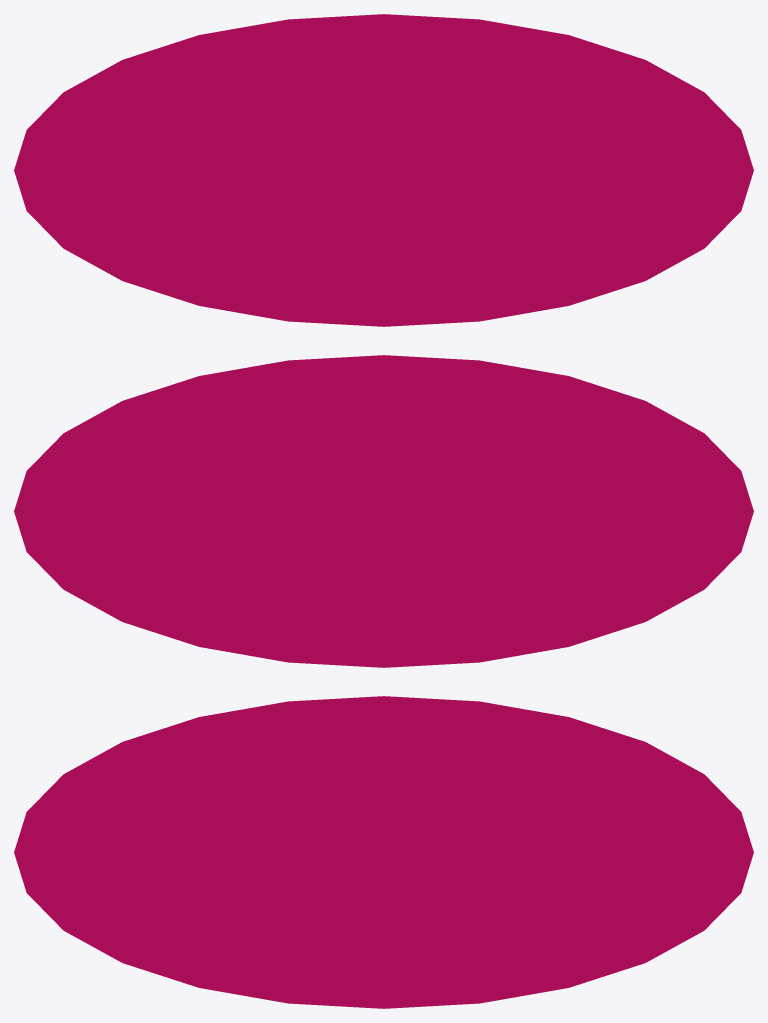
File: resporn.fbx
The picture shows the model from 3 angles, top to bottom: view 1: azimuth 30°, elevation 25°; view 2: azimuth 150°, elevation 25°; view 3: azimuth 270°, elevation 25°; orthographic projection.
Visible parts, largest first — view 1: pDisc1; view 2: pDisc1; view 3: pDisc1.
Boxes of the visible parts, x1,y1,x2,y2 form: pDisc1: [14, 14, 753, 326]; pDisc1: [14, 355, 753, 667]; pDisc1: [14, 696, 753, 1008].
Size of the model in its own units: 1 by 0 by 1.
